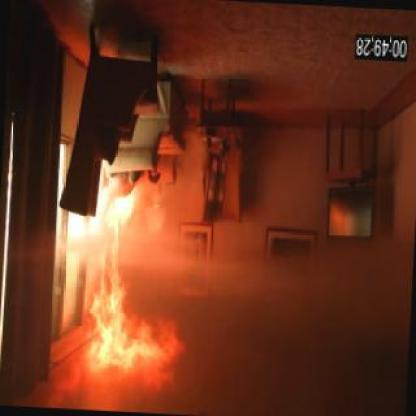Fire: (69, 276, 179, 390), (54, 153, 148, 269)
